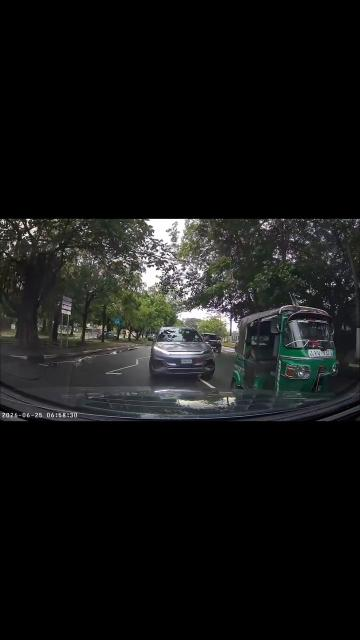illegal overtaking: (151, 316, 216, 377)
